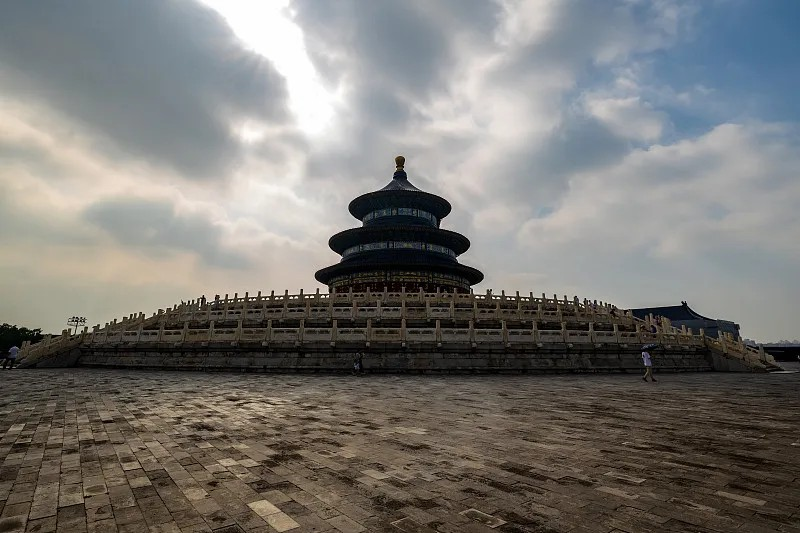Heaven: (313, 155, 483, 294)
